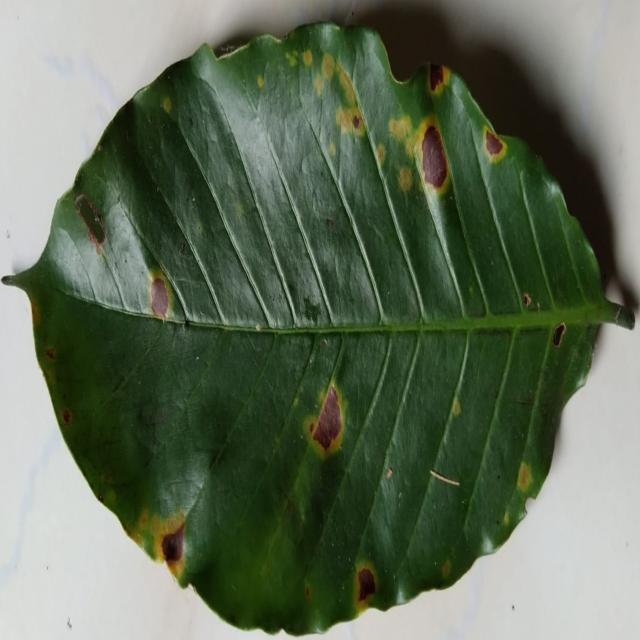Enfermedad-Mancha-de-hierro: (4, 24, 634, 638)
